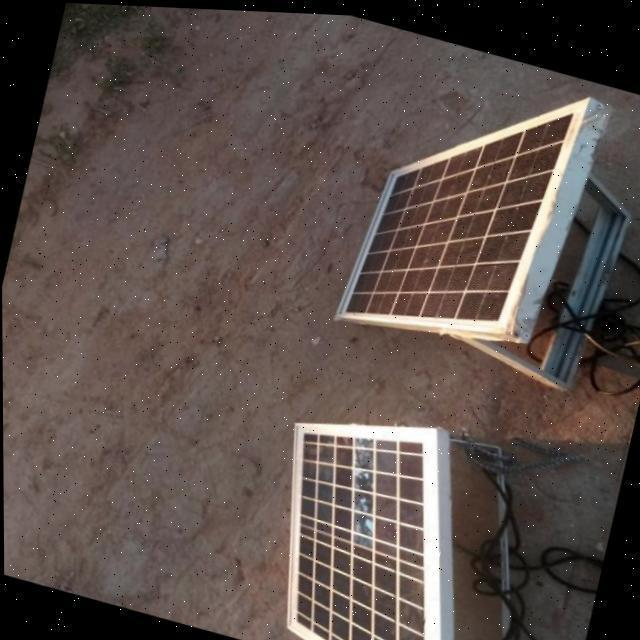Normal Solar Panel: (336, 43, 588, 362), (243, 385, 503, 640)
